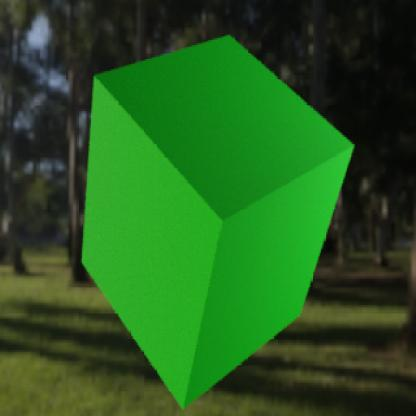cube: (81, 33, 354, 409)
